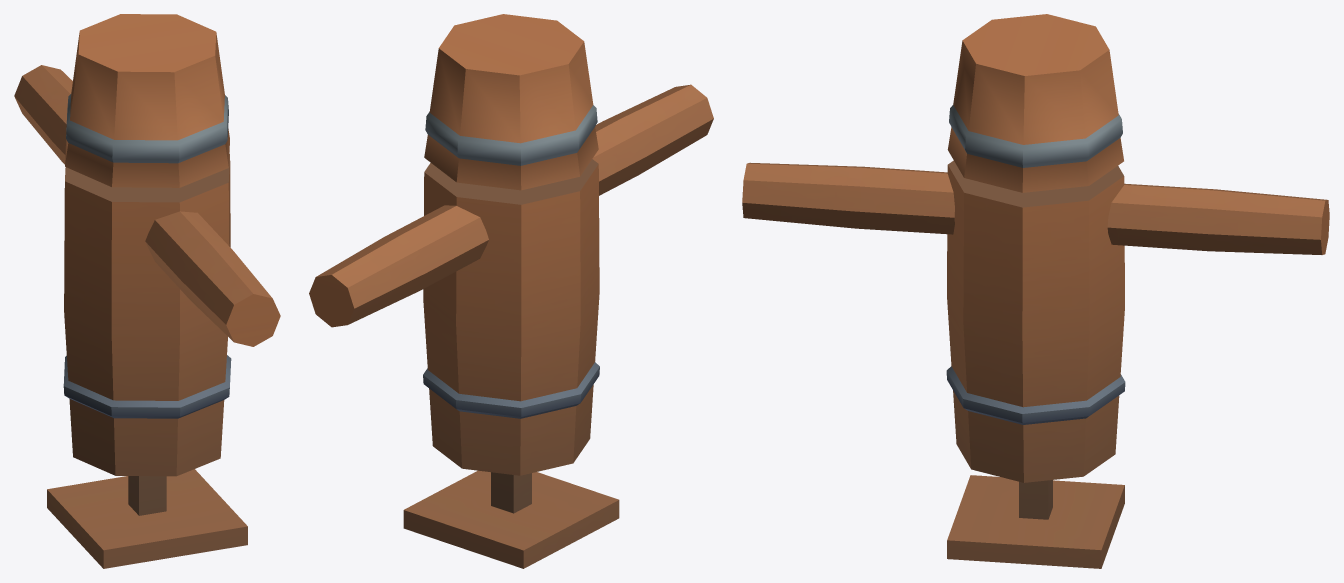
Rendered from Мишень_Фигура.2.fbx.
The picture shows the model from 3 angles, left to right: view 1: azimuth 30°, elevation 25°; view 2: azimuth 150°, elevation 25°; view 3: azimuth 270°, elevation 25°; orthographic projection.
Visible parts, largest first — view 1: Мишень_Фигура_2; view 2: Мишень_Фигура_2; view 3: Мишень_Фигура_2.
Part boxes in pixels (x1,y1,x2,y2): Мишень_Фигура_2: (14, 14, 280, 568); Мишень_Фигура_2: (309, 14, 713, 568); Мишень_Фигура_2: (742, 14, 1329, 568).
Size of the model in its own units: 18.29 by 54.83 by 60.03.
